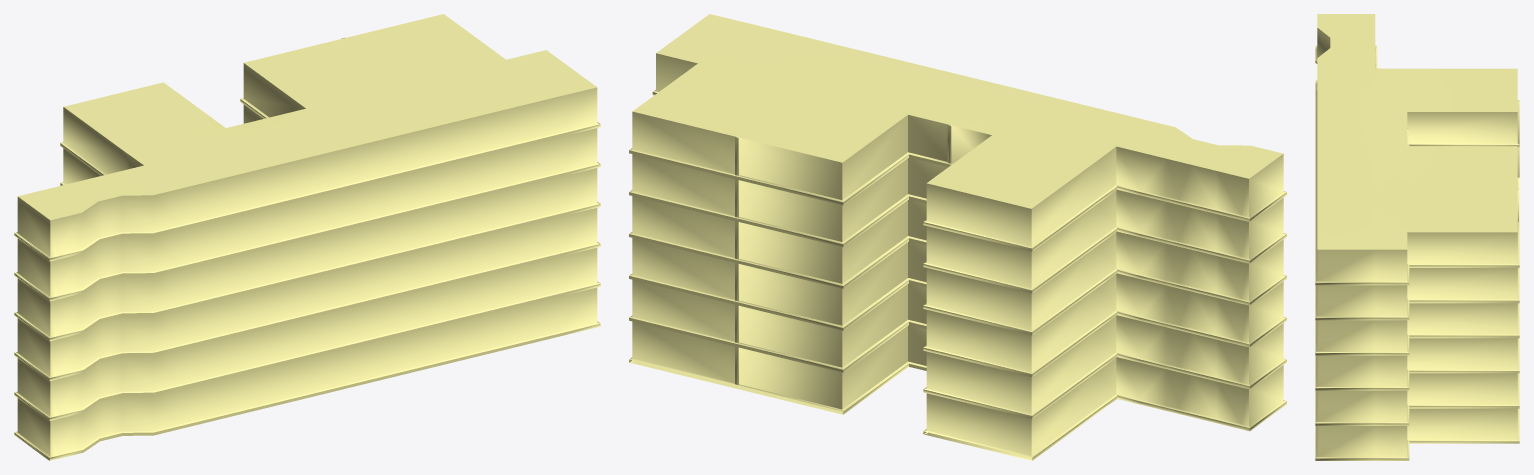
Rendered from MP_Underflats.fbx.
3 views of the same model, side by side, from view 1: azimuth 30°, elevation 25°; view 2: azimuth 150°, elevation 25°; view 3: azimuth 270°, elevation 25° (orthographic). The views are drawn at different scales.
Visible parts, largest first — view 1: Background_Flats.001; view 2: Background_Flats.001; view 3: Background_Flats.001.
Boxes of the visible parts, x1,y1,x2,y2 form: Background_Flats.001: [14, 14, 600, 460]; Background_Flats.001: [629, 14, 1286, 460]; Background_Flats.001: [1315, 14, 1519, 460].
Size of the model in its own units: 3103 by 1288 by 1131.
